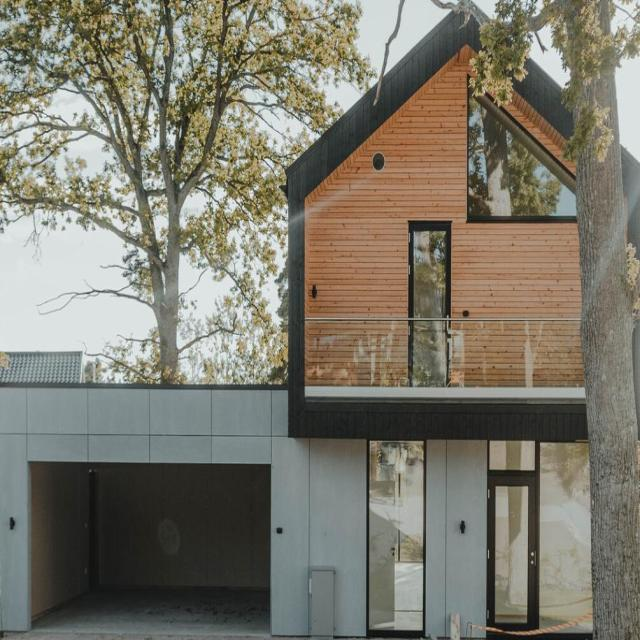Railing: (302, 314, 582, 386)
door: (485, 443, 542, 633), (408, 223, 450, 316)
plant: (1, 0, 377, 385), (471, 0, 639, 639)
wall: (0, 0, 639, 639)
windows: (486, 437, 594, 635), (468, 70, 579, 222), (367, 438, 426, 639)
